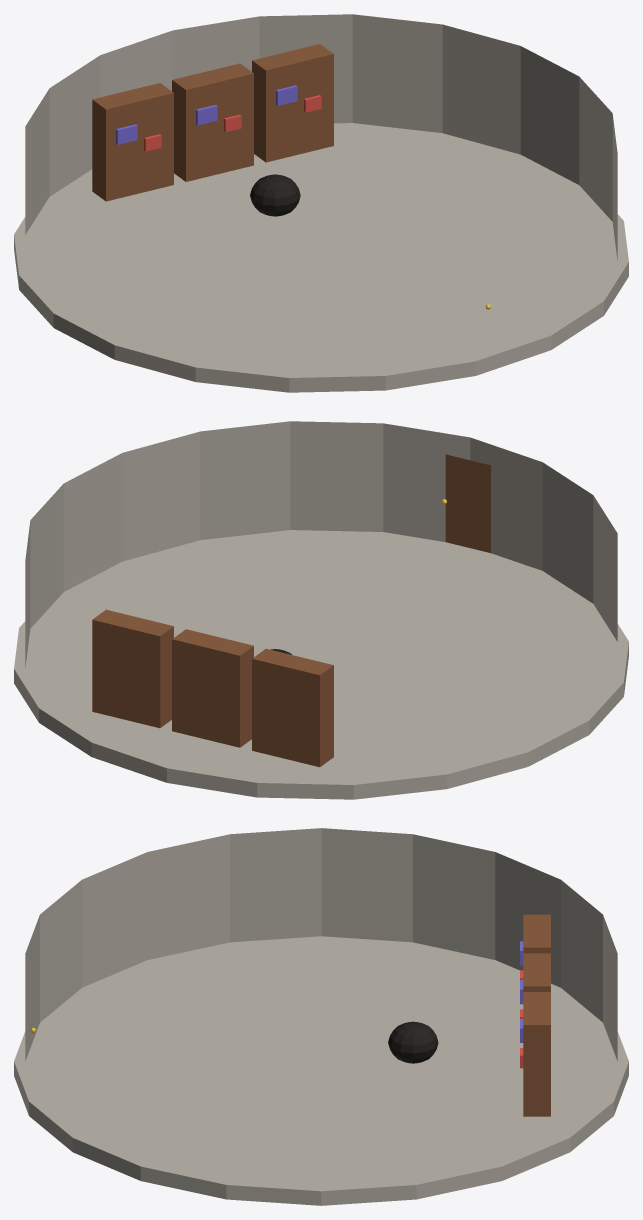
File: room_tower.glb
3 renders of one model, top to bottom at view 1: azimuth 30°, elevation 25°; view 2: azimuth 150°, elevation 25°; view 3: azimuth 270°, elevation 25°, orthographic.
Visible parts, largest first — view 1: RoomT; view 2: RoomT; view 3: RoomT.
Boxes of the visible parts, box(x1,y1,x2,y2) form: RoomT: box(14, 14, 628, 392); RoomT: box(14, 421, 628, 799); RoomT: box(14, 828, 628, 1205).
Size of the model in its own units: 13.4 by 2.95 by 13.4.
